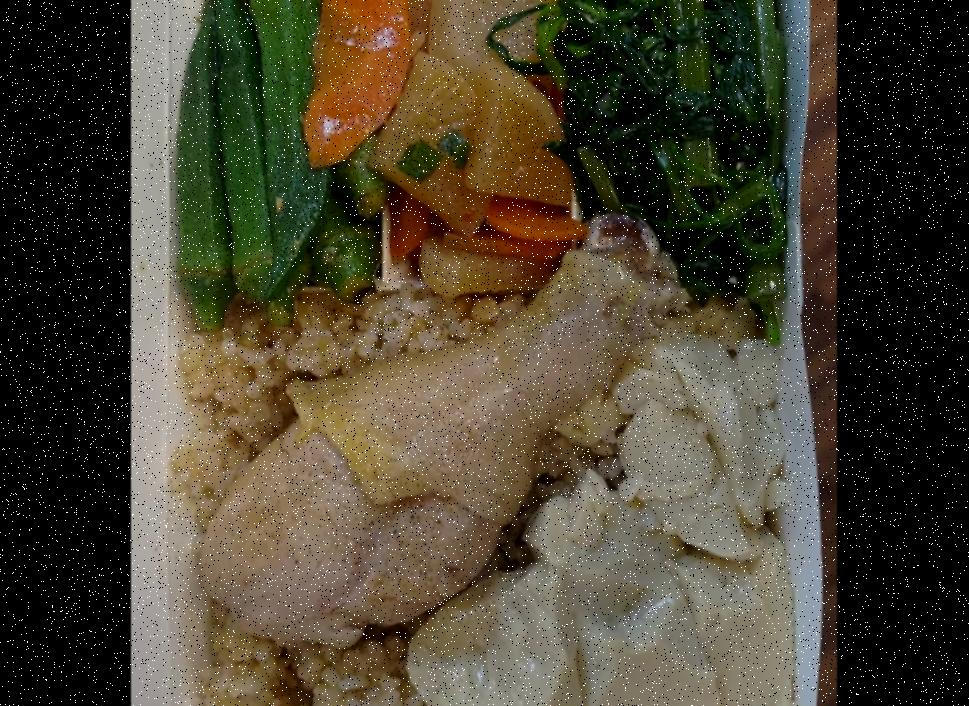box: (176, 0, 823, 706)
brown rice: (196, 292, 650, 706)
side dish: (413, 334, 787, 706), (312, 0, 573, 295), (539, 0, 786, 310), (180, 0, 382, 332)
small herbal chicken leg: (195, 214, 685, 654)
